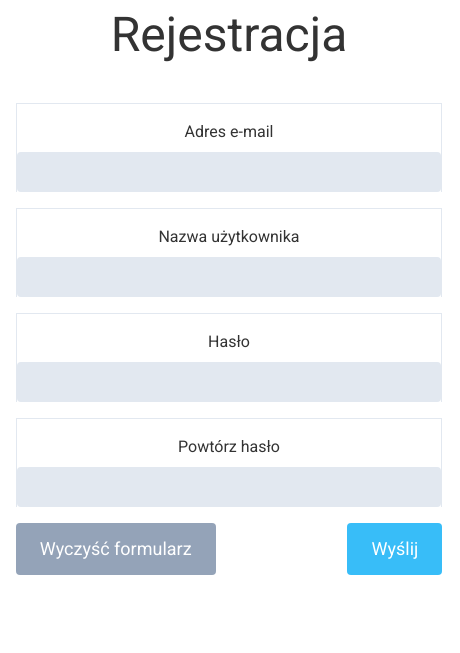
Test case: Register › should not submit form when password and password repeat are not equal
Type "test@email" into the field labelled "Adres e-mail" at (229, 172), box [17,152,441,192]
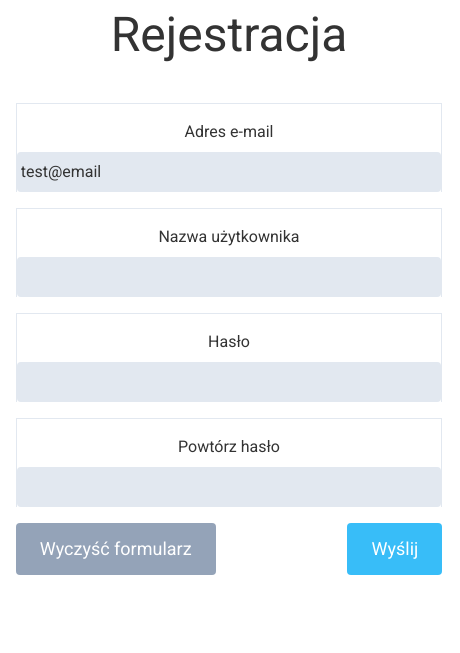
Type "username" into the field labelled "Nazwa użytkownika" at (229, 277), box [17,257,441,297]
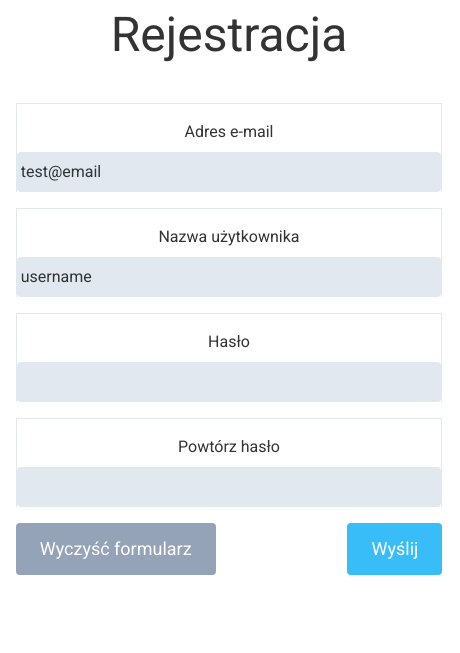
Type "password" into the password field labelled "Hasło" at (229, 382), box [17,362,441,402]
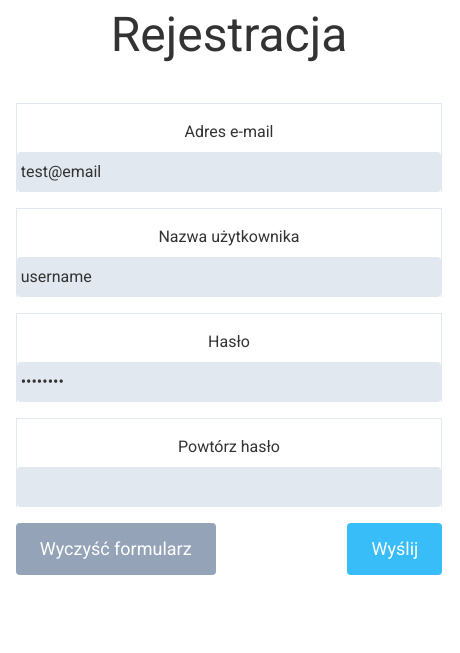
Type "password2" into the password field labelled "Powtórz hasło" at (229, 487), box [17,467,441,507]
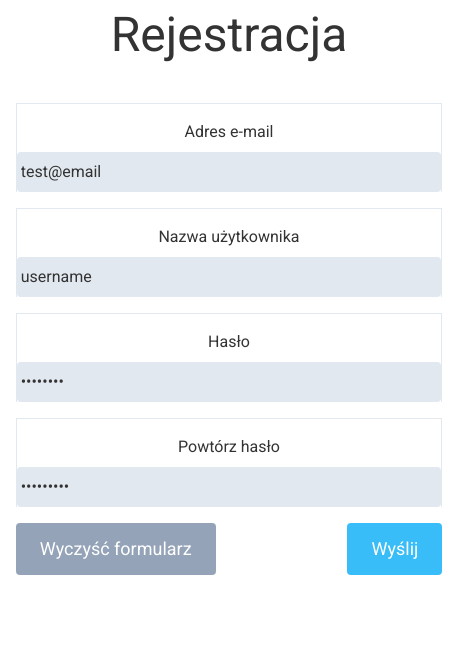
Click the button "Wyślij" at (395, 549), box [348,523,442,575]
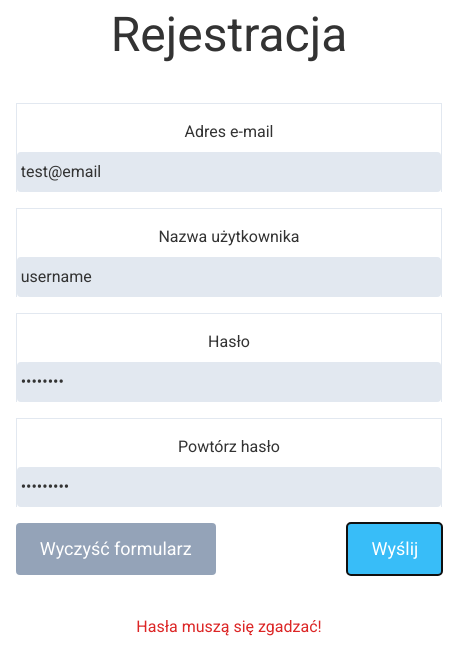
Now the text "Hasła muszą się zgadzać!" is shown, box [136,617,322,636]
